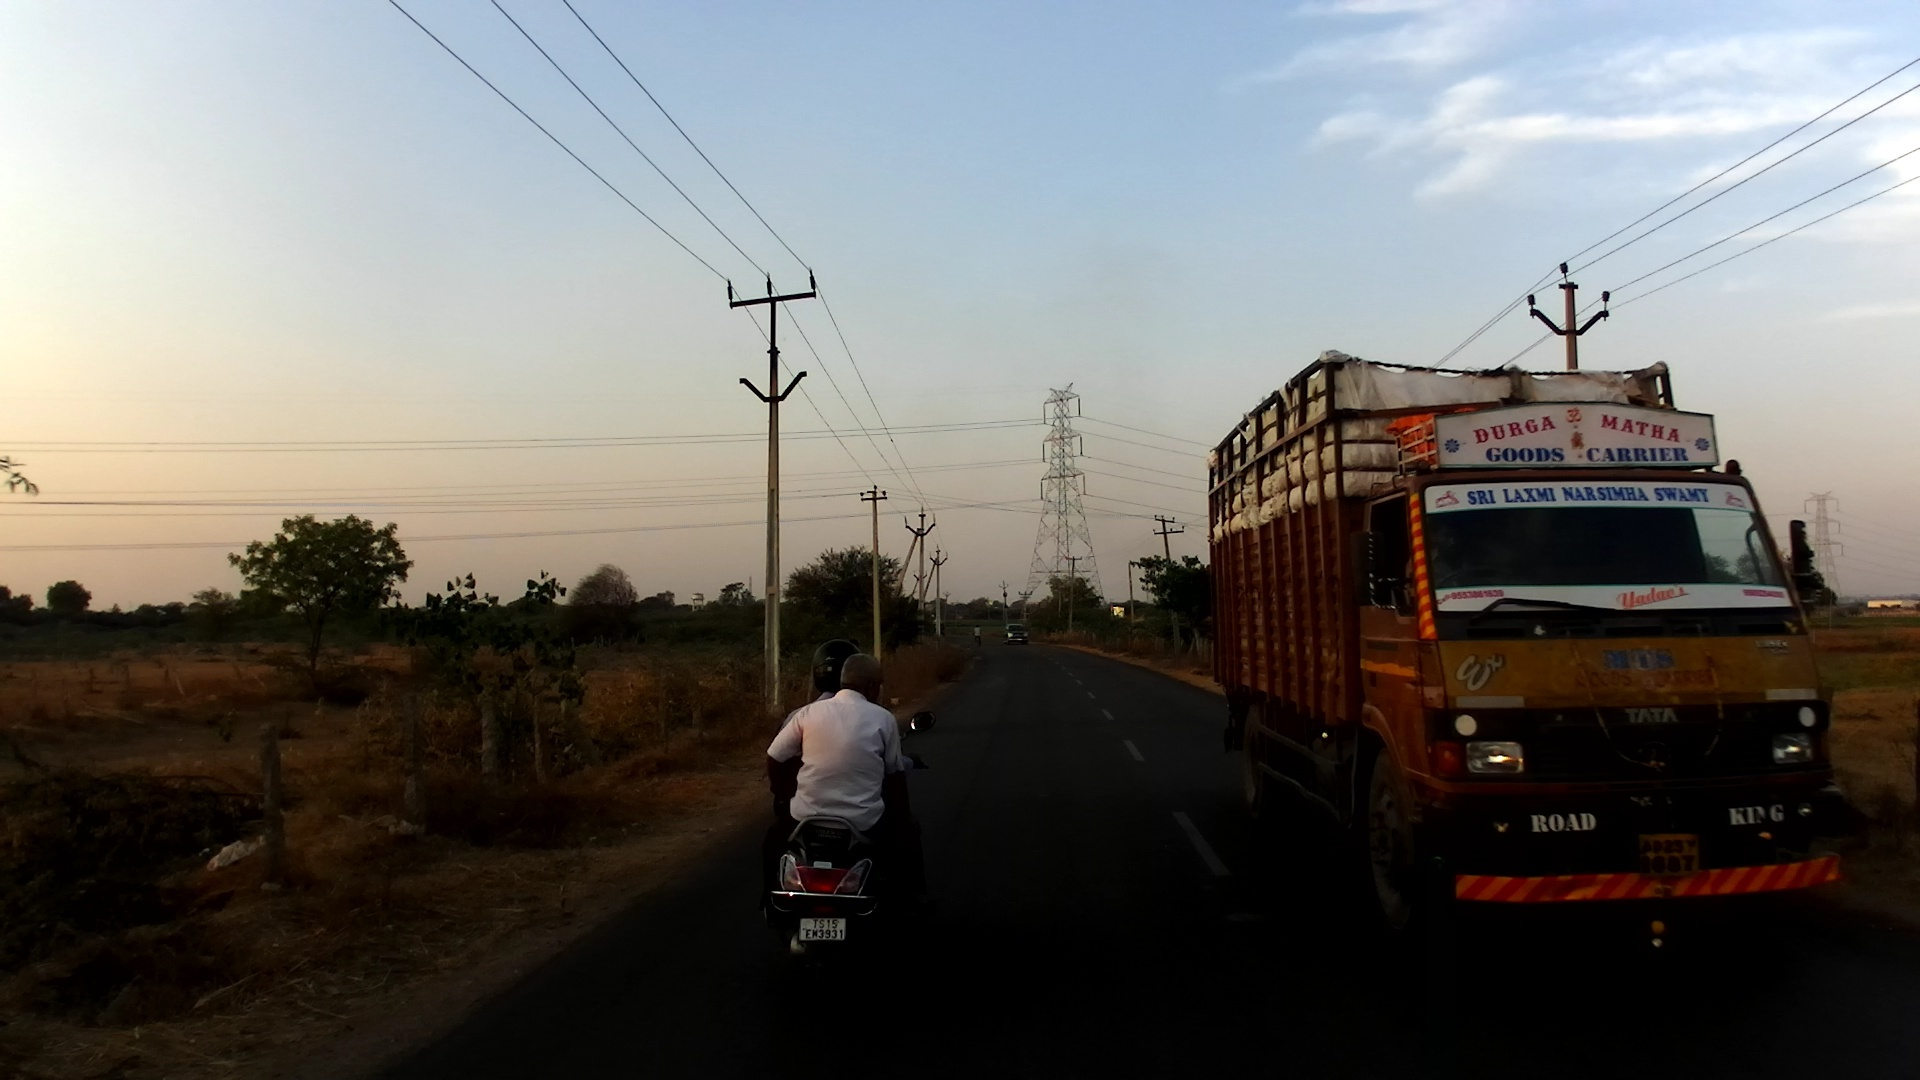bicycle: (971, 632, 979, 649)
car: (1002, 621, 1029, 642)
motorcycle: (755, 703, 936, 999)
rider: (759, 649, 931, 927), (777, 639, 913, 830), (967, 621, 985, 645)
truck: (1203, 351, 1855, 1008)
